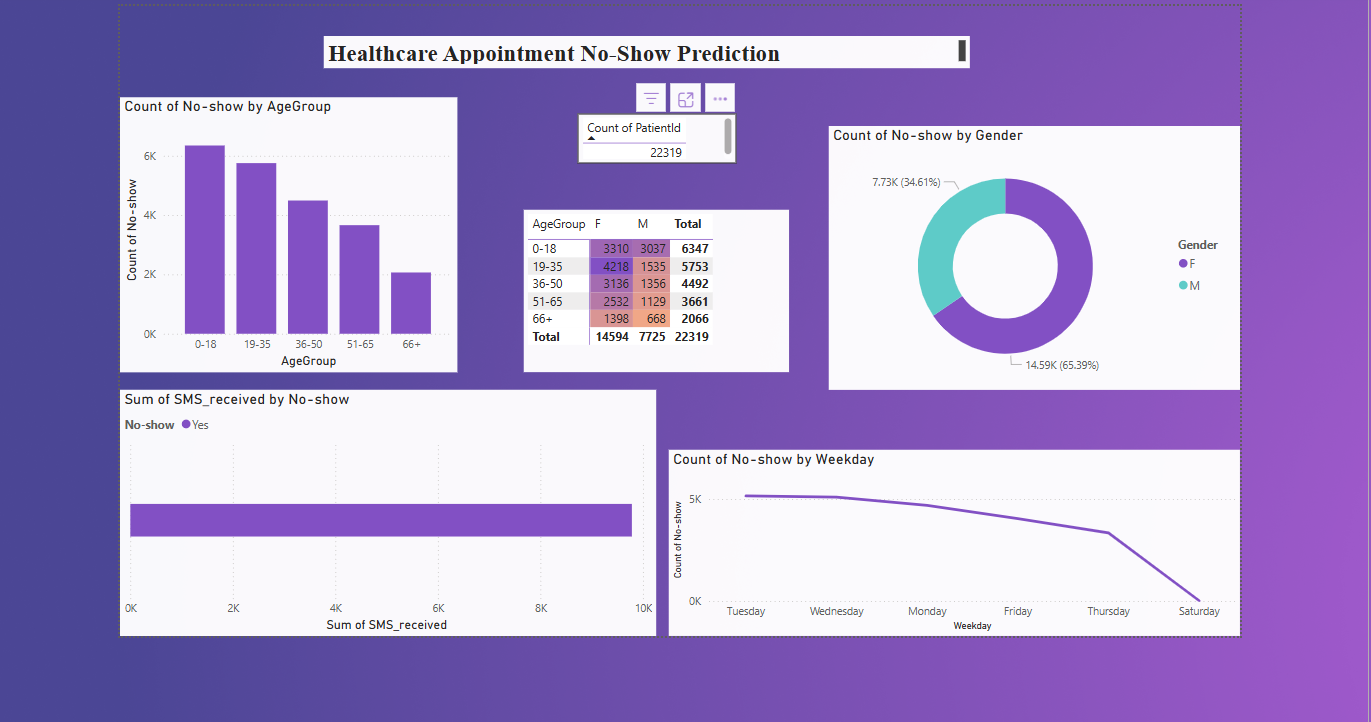

The dashboard page shown, as its layout file describes it:
{"tool":"powerbi","page":{"name":"Page 1","canvas":[1280,720],"ordinal":0},"visuals":[{"type":"tableEx","fields":{"Values":["CountNonNull(KaggleV2-May-2016  dataset.PatientId)"]},"box":[522.9,122.9,181.4,57.1],"z":0},{"type":"clusteredColumnChart","fields":{"Category":["KaggleV2-May-2016  dataset.AgeGroup"],"Y":["CountNonNull(KaggleV2-May-2016  dataset.No-show)"]},"box":[0,104.3,385.7,314.3],"z":1000},{"type":"donutChart","fields":{"Category":["KaggleV2-May-2016  dataset.Gender"],"Y":["CountNonNull(KaggleV2-May-2016  dataset.No-show)"]},"box":[810,137.1,470,301.4],"z":2000},{"type":"barChart","fields":{"Series":["KaggleV2-May-2016  dataset.No-show"],"Y":["Sum(KaggleV2-May-2016  dataset.SMS_received)"]},"box":[0,438.6,612.9,281.4],"z":3000},{"type":"lineChart","fields":{"Category":["KaggleV2-May-2016  dataset.Weekday"],"Y":["CountNonNull(KaggleV2-May-2016  dataset.No-show)"]},"box":[627.1,507.1,652.9,212.9],"z":4000},{"type":"pivotTable","fields":{"Columns":["KaggleV2-May-2016  dataset.Gender"],"Values":["CountNonNull(KaggleV2-May-2016  dataset.No-show)"],"Rows":["KaggleV2-May-2016  dataset.AgeGroup"]},"box":[461.4,232.9,302.9,185.7],"z":5000},{"type":"textbox","box":[232.9,34.3,738.6,37.1],"z":5001}]}

Visuals, with their boxes on the page's 1280x720 design canvas (x1, y1, x2, y2). These are canvas units, not pixel positions in the 1371x722 screenshot, which may show the page scaled, cropped or inside an application window:
tableEx - CountNonNull(KaggleV2-May-2016  dataset.PatientId): <bbox>523, 123, 704, 180</bbox>
clusteredColumnChart - KaggleV2-May-2016  dataset.AgeGroup x CountNonNull(KaggleV2-May-2016  dataset.No-show): <bbox>0, 104, 386, 419</bbox>
donutChart - KaggleV2-May-2016  dataset.Gender x CountNonNull(KaggleV2-May-2016  dataset.No-show): <bbox>810, 137, 1280, 438</bbox>
barChart - KaggleV2-May-2016  dataset.No-show x Sum(KaggleV2-May-2016  dataset.SMS_received): <bbox>0, 439, 613, 720</bbox>
lineChart - KaggleV2-May-2016  dataset.Weekday x CountNonNull(KaggleV2-May-2016  dataset.No-show): <bbox>627, 507, 1280, 720</bbox>
pivotTable - KaggleV2-May-2016  dataset.Gender x CountNonNull(KaggleV2-May-2016  dataset.No-show): <bbox>461, 233, 764, 419</bbox>
textbox: <bbox>233, 34, 972, 71</bbox>
